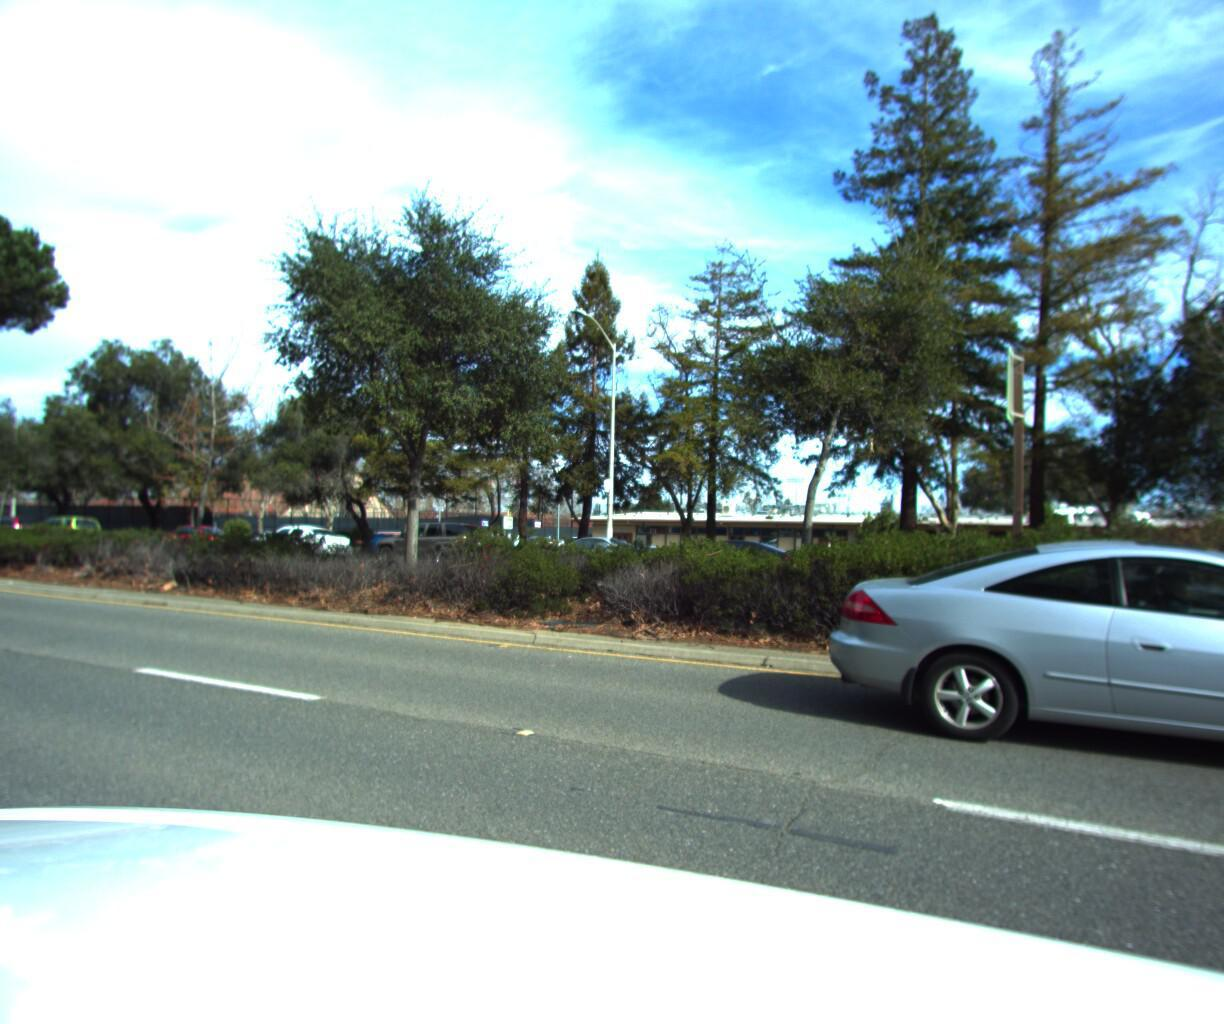car: (803, 516, 1224, 824), (646, 533, 812, 592), (524, 527, 660, 578), (369, 515, 497, 561), (241, 517, 359, 560), (20, 511, 108, 545)
